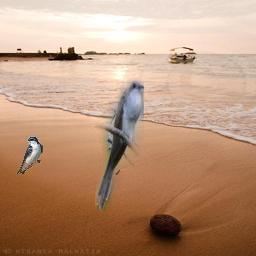Cuckoo: (95, 79, 144, 211)
Swallow: (16, 136, 43, 174)
